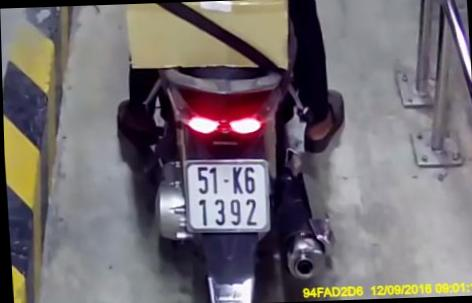LP: (180, 155, 273, 236)
